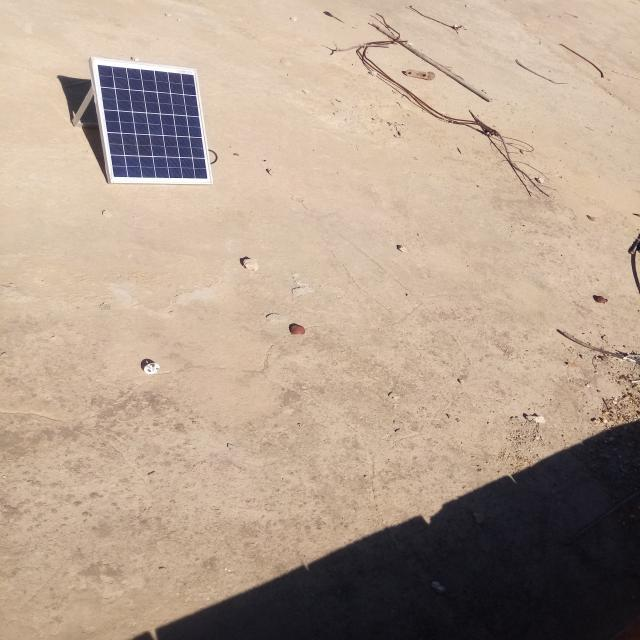no faulty: (98, 62, 213, 186)
